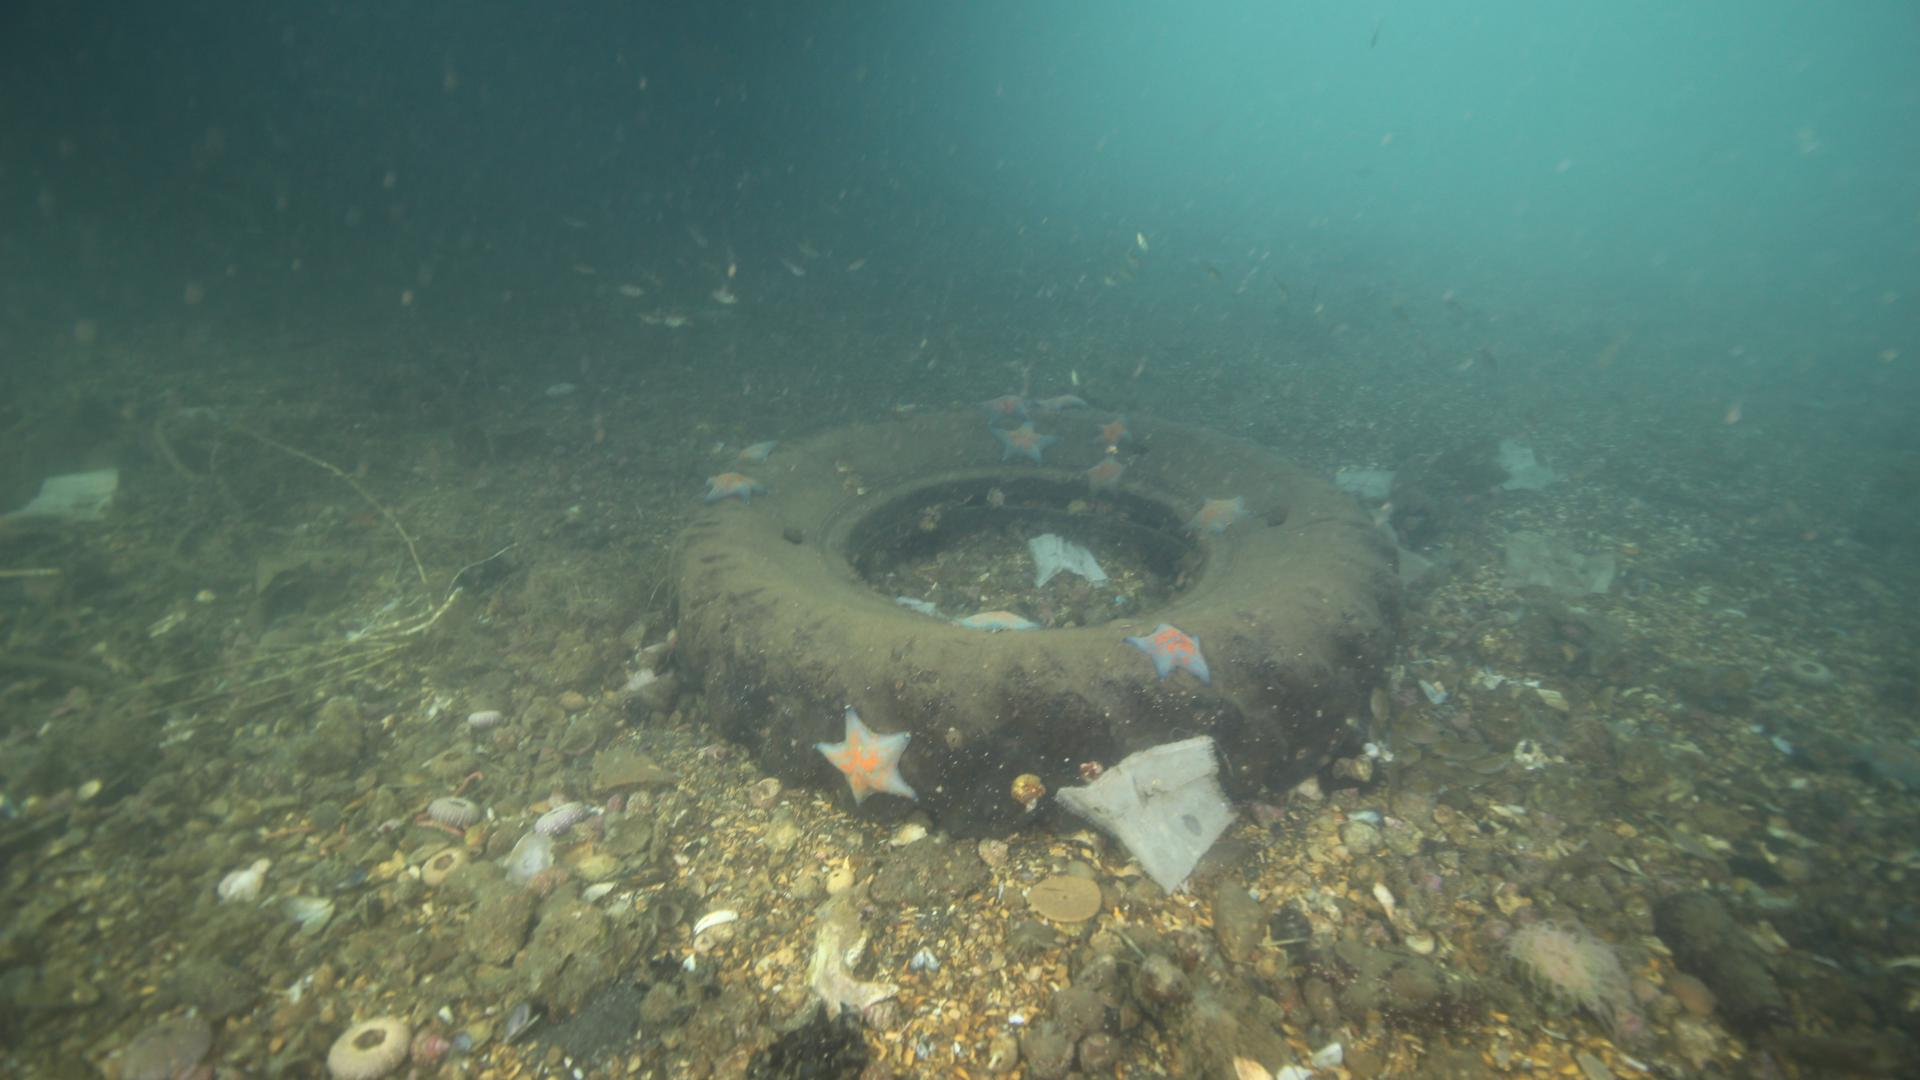tire: (669, 407, 1404, 833)
